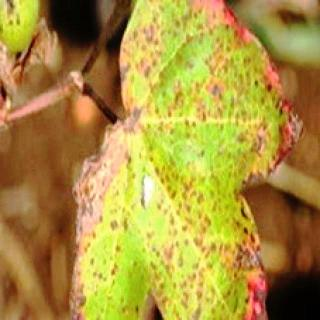leaf spot: (74, 0, 305, 320)
